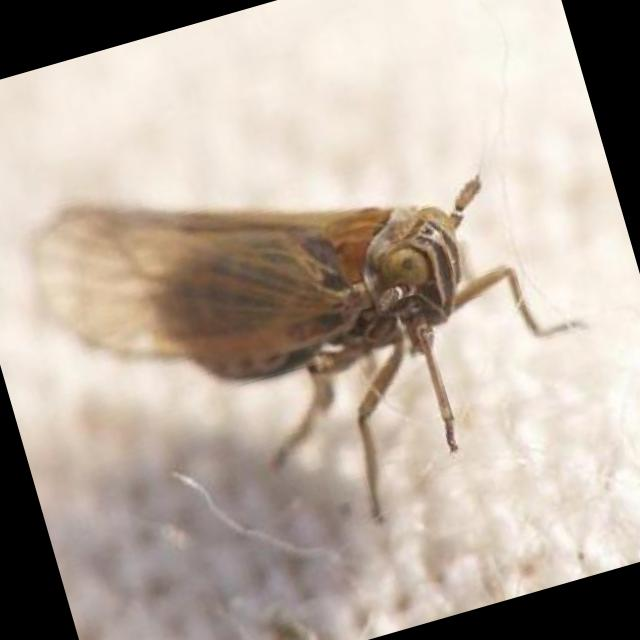brown-planthopper: (29, 177, 515, 412)
